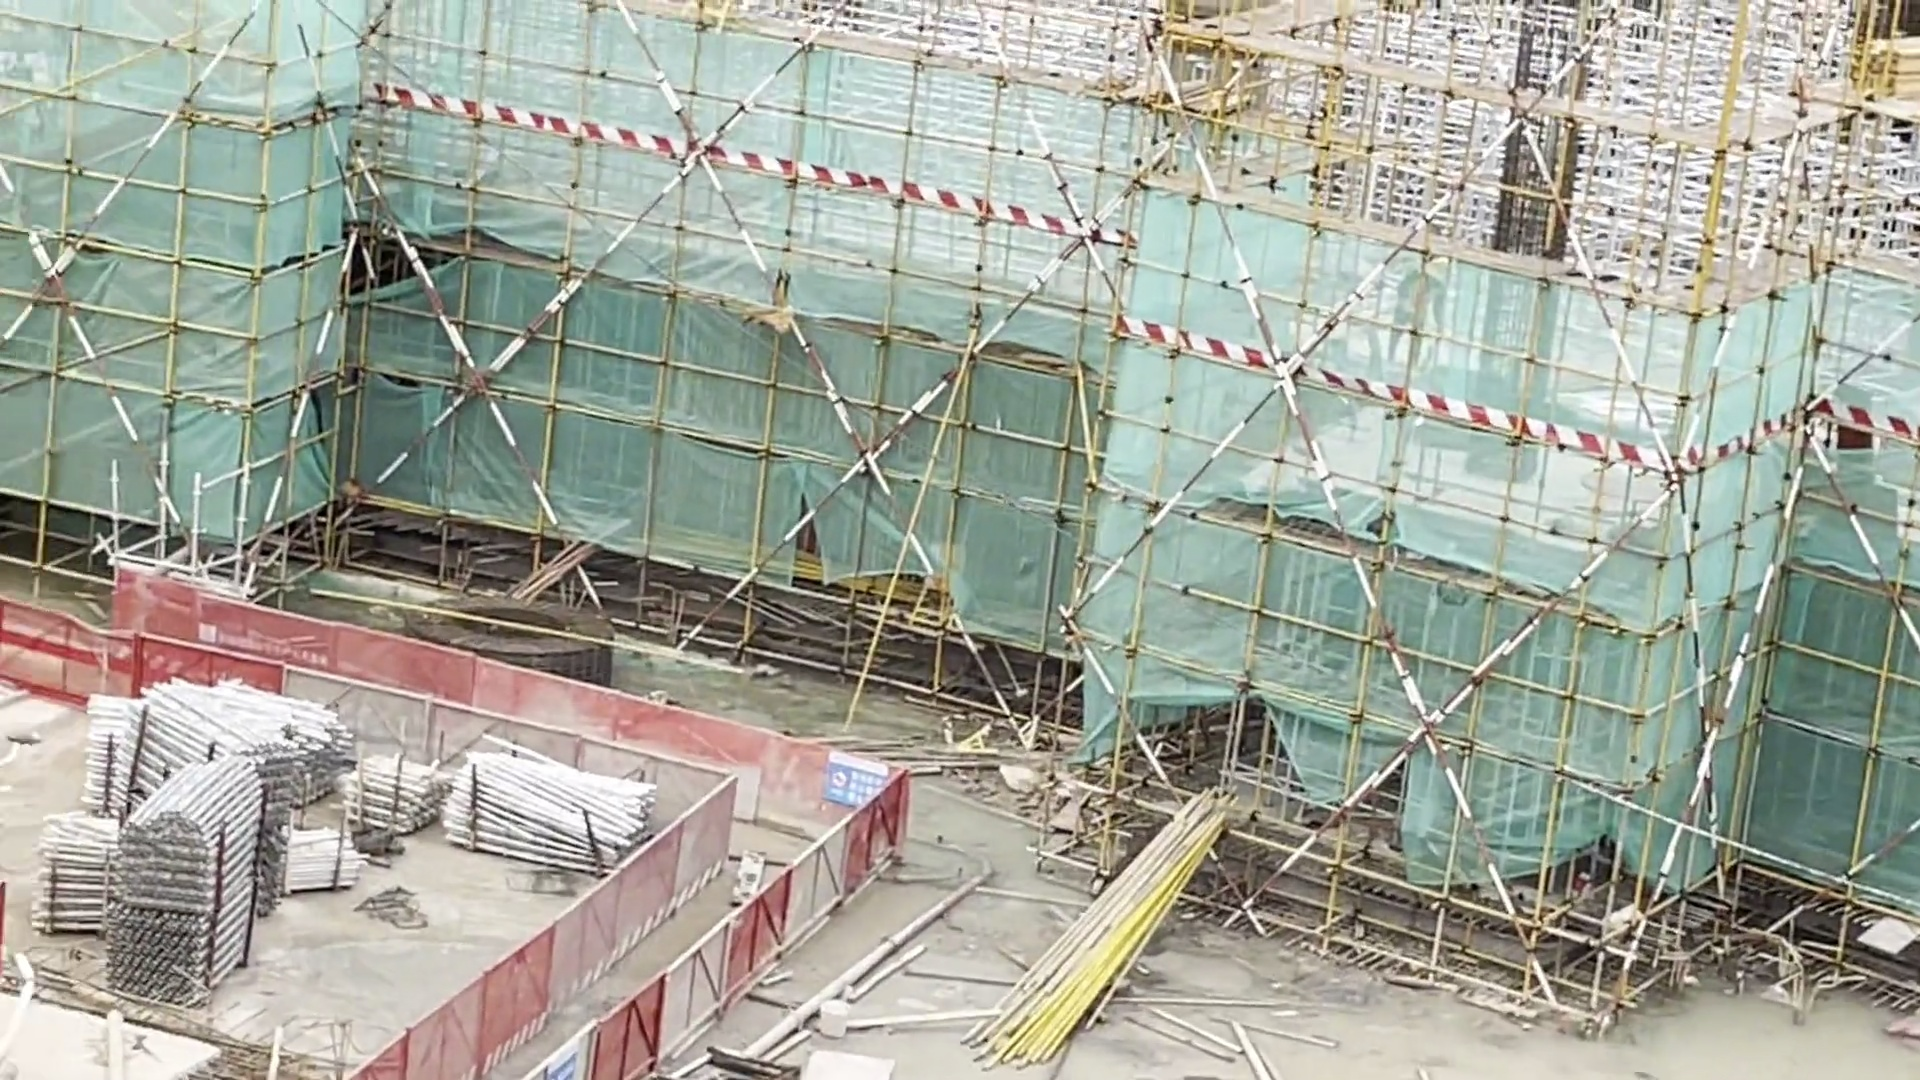fence: (11, 546, 469, 761), (483, 661, 928, 880), (371, 876, 815, 1080)
scaffold: (94, 673, 356, 807), (105, 793, 248, 1013), (460, 756, 654, 870), (334, 752, 459, 837), (41, 824, 105, 943), (284, 816, 363, 910)
slogan: (808, 737, 915, 831)
